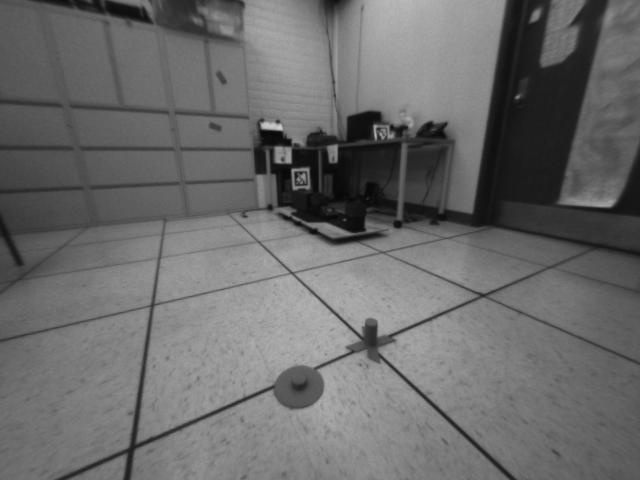X: (344, 316, 398, 365)
